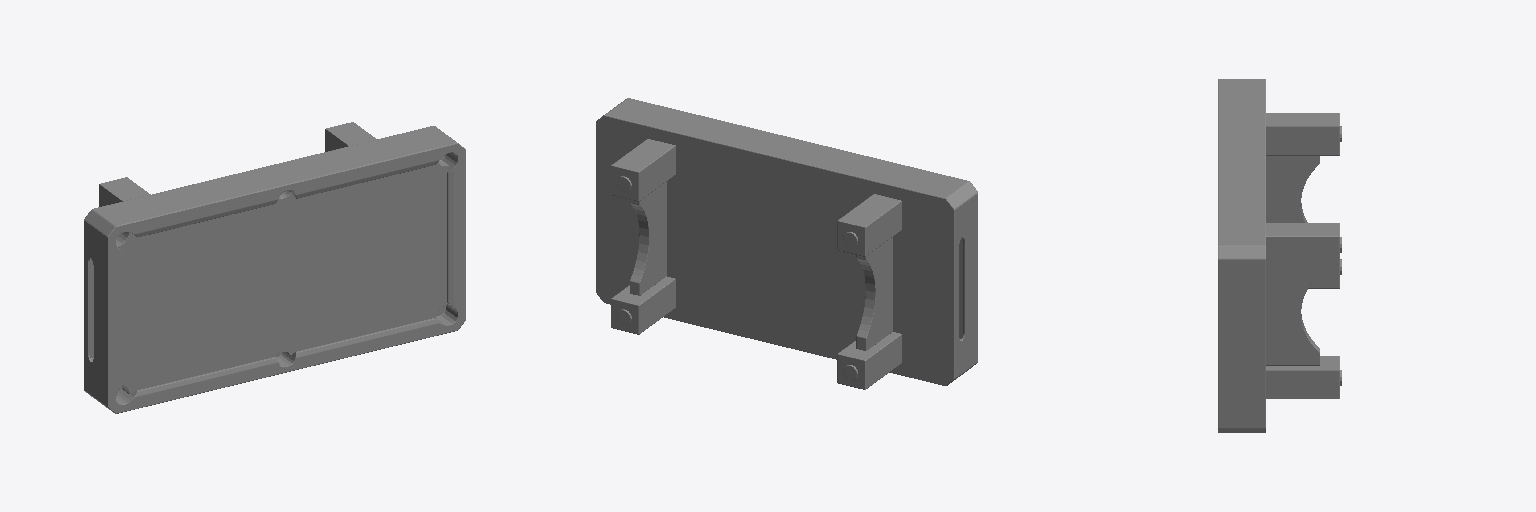
The model's file is table2.obj.
The picture shows the model from 3 angles: view 1: azimuth 30°, elevation 25°; view 2: azimuth 150°, elevation 25°; view 3: azimuth 270°, elevation 25°; orthographic projection.
Parts seen in each view (by area): view 1: Pool_10523_Pool_Table_v1_L3; view 2: Pool_10523_Pool_Table_v1_L3; view 3: Pool_10523_Pool_Table_v1_L3.
Boxes of the visible parts, box(x1,y1,x2,y2) form: Pool_10523_Pool_Table_v1_L3: box(84, 122, 465, 413); Pool_10523_Pool_Table_v1_L3: box(596, 98, 977, 389); Pool_10523_Pool_Table_v1_L3: box(1218, 79, 1341, 432).
Size of the model in its own units: 254 by 127 by 76.2.